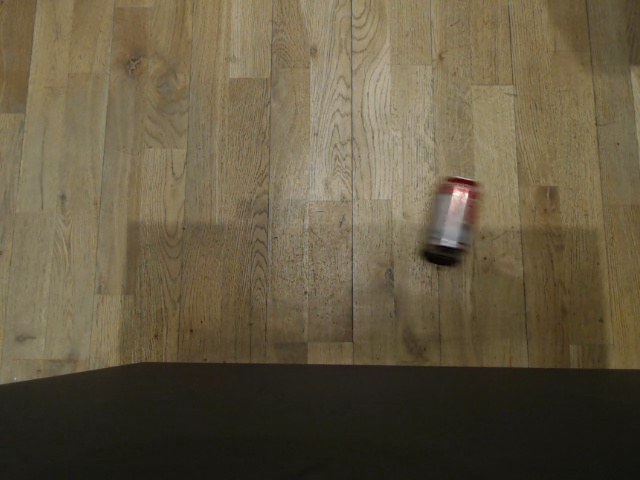coke: (424, 175, 479, 261)
